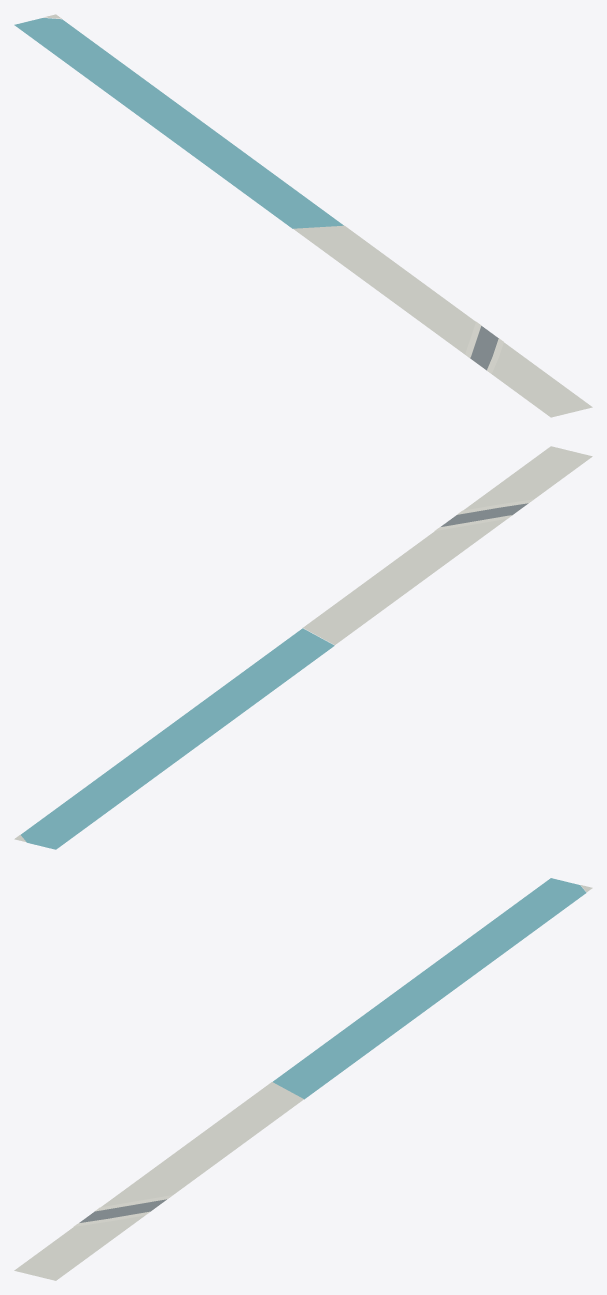
3 views of the same model, one above another, from view 1: azimuth 30°, elevation 25°; view 2: azimuth 150°, elevation 25°; view 3: azimuth 330°, elevation 25° (orthographic).
Parts seen in each view (by area): view 1: city; view 2: city; view 3: city.
Boxes of the visible parts, x1,y1,x2,y2 form: city: [14, 14, 592, 417]; city: [14, 446, 592, 849]; city: [14, 878, 592, 1280].
Bounding box in the file's own units: 22.58 × 0.4 × 500.
